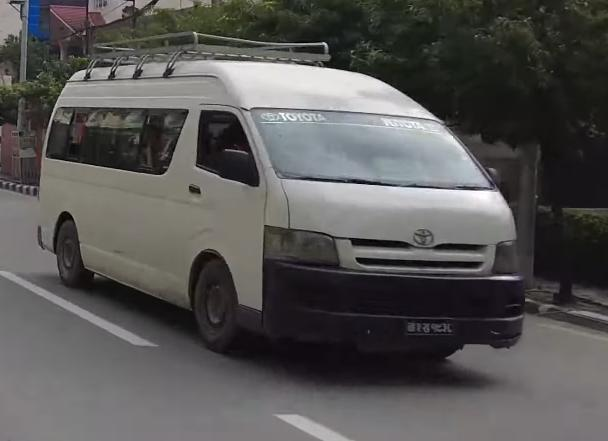micro_bus: (34, 37, 531, 367)
